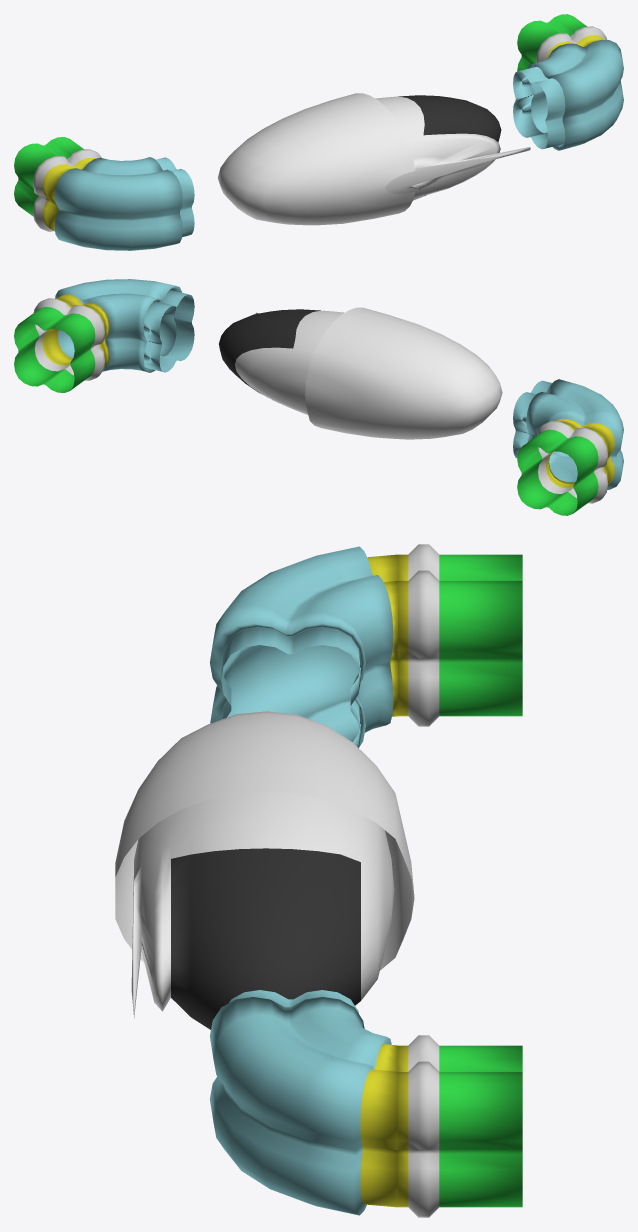
The model's file is Bridge.fbx.
3 renders of one model, top to bottom at view 1: azimuth 30°, elevation 25°; view 2: azimuth 150°, elevation 25°; view 3: azimuth 270°, elevation 25°, orthographic. The views are drawn at different scales.
Parts seen in each view (by area): view 1: Plane; view 2: Plane; view 3: Plane.
Part boxes in pixels (left/top/right/bottom): Plane: left=14, top=14, right=623, bottom=250; Plane: left=14, top=279, right=623, bottom=515; Plane: left=115, top=544, right=522, bottom=1217.
Bounding box in the file's own units: 31846 × 5679 × 9801.
